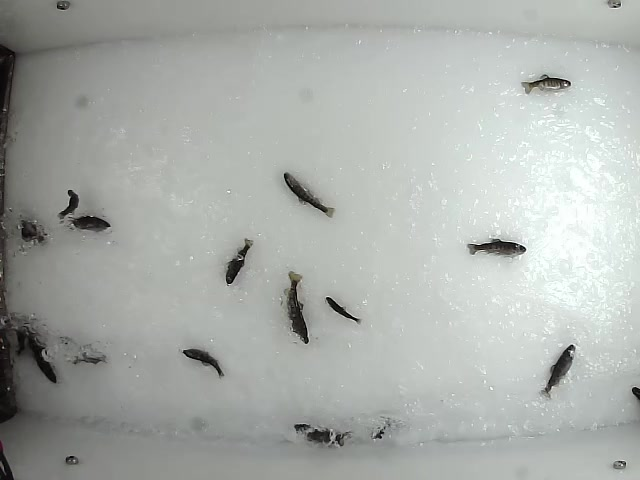fish: (17, 317, 59, 387), (535, 342, 581, 400), (282, 173, 336, 218), (284, 269, 312, 344), (223, 236, 255, 285), (179, 348, 226, 380), (293, 423, 352, 448), (464, 236, 529, 258), (324, 296, 363, 328), (56, 187, 80, 224), (66, 215, 111, 233)
